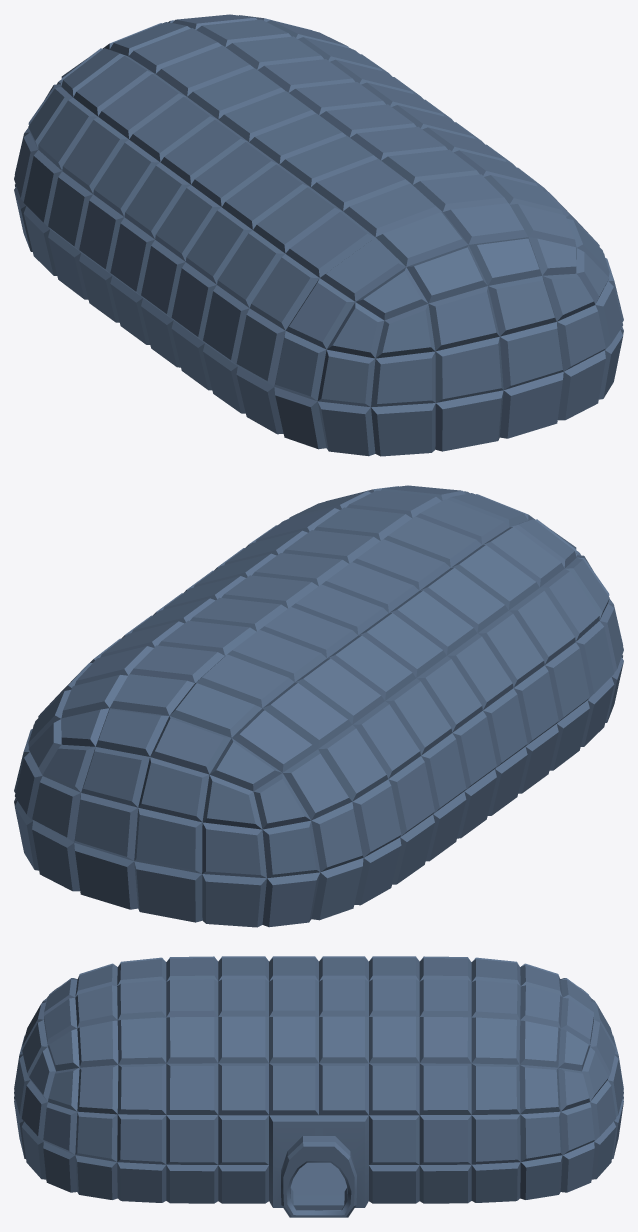
Rendered from building_2_single_input.fbx.
3 views of the same model, one above another, from view 1: azimuth 30°, elevation 25°; view 2: azimuth 150°, elevation 25°; view 3: azimuth 270°, elevation 25° (orthographic). The views are drawn at different scales.
Parts seen in each view (by area): view 1: building_2_single_input.001; view 2: building_2_single_input.001; view 3: building_2_single_input.001, building_2_single_input, building_2_single_input.002.
Boxes of the visible parts, bbox=[...] form: building_2_single_input.001: bbox=[14, 14, 623, 456]; building_2_single_input.001: bbox=[14, 485, 623, 927]; building_2_single_input.001: bbox=[14, 956, 623, 1207]; building_2_single_input: bbox=[281, 1136, 356, 1217]; building_2_single_input.002: bbox=[291, 1162, 346, 1210].
Size of the model in its own units: 1066 by 544 by 1836.
